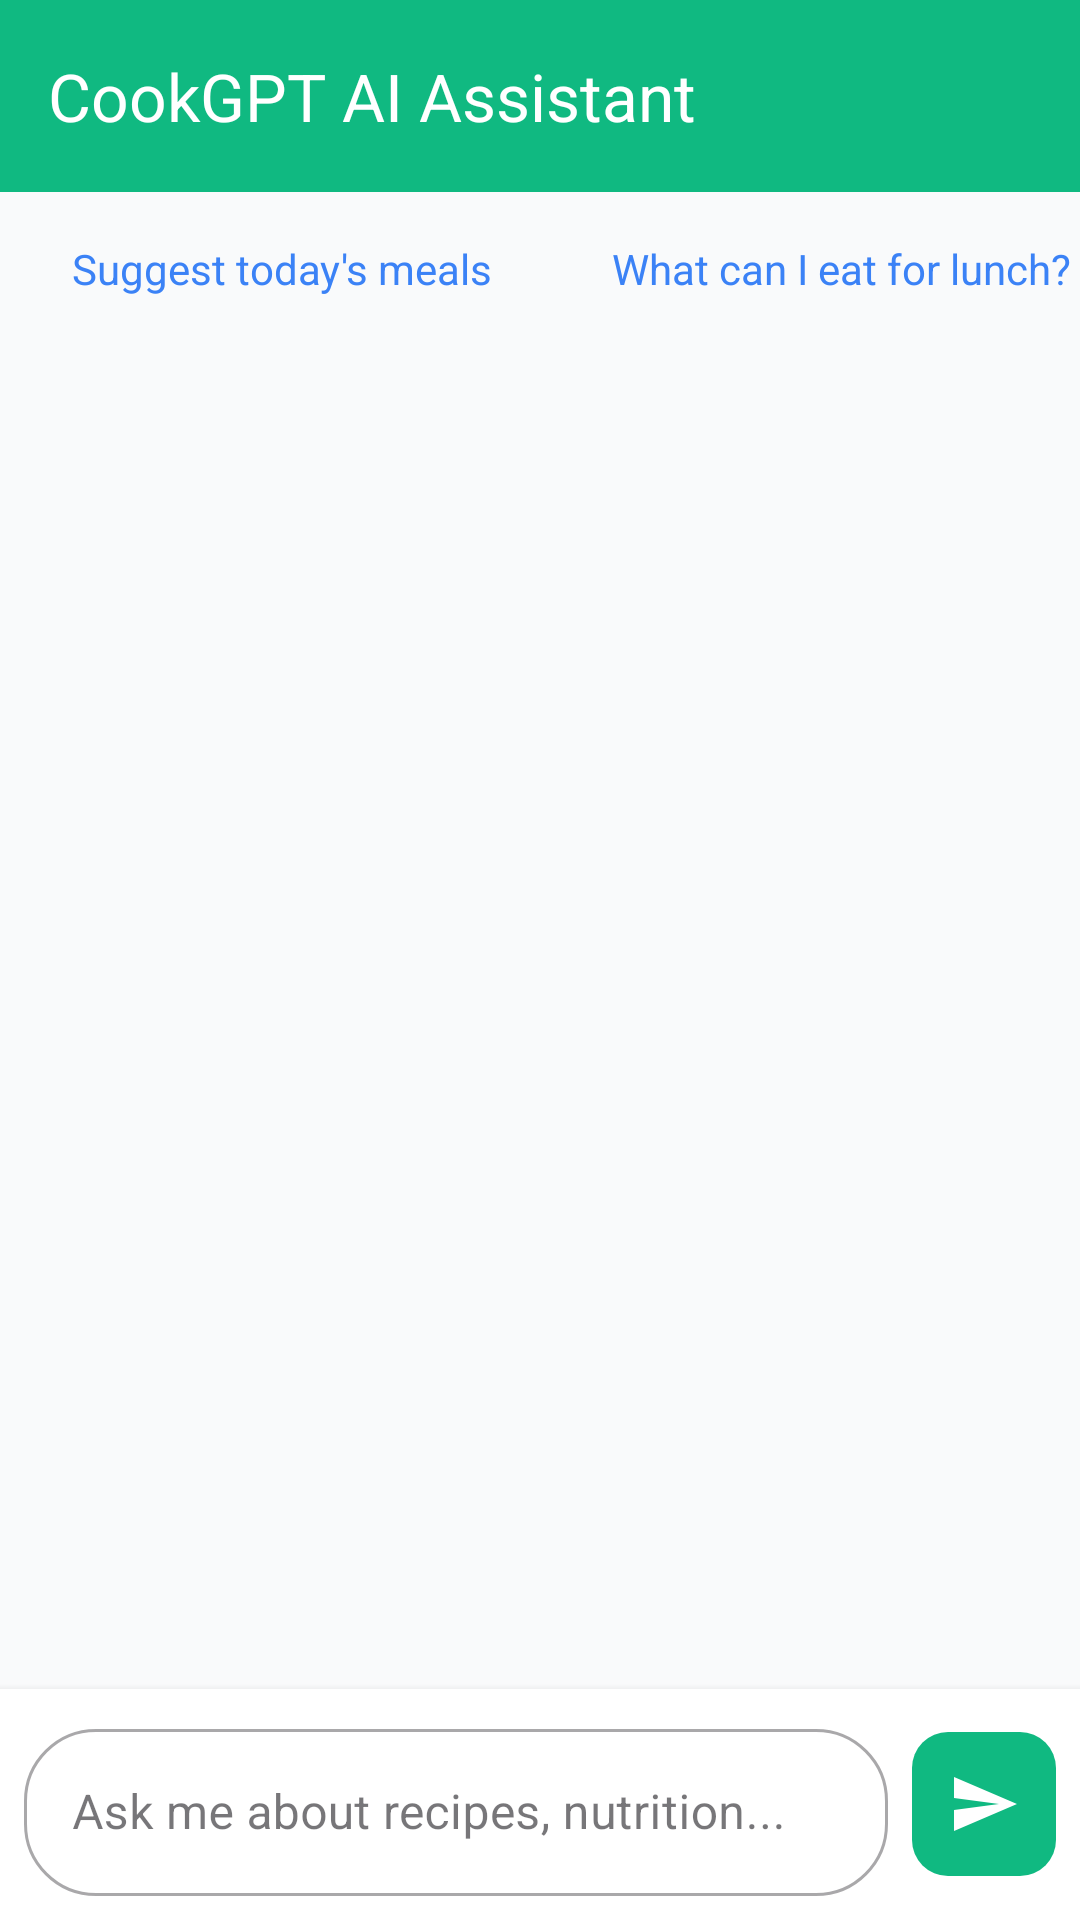

Point at icon controls on the screen. Image size 1080w x 1920h, points as (x,y).
Send message: (984,1804)
